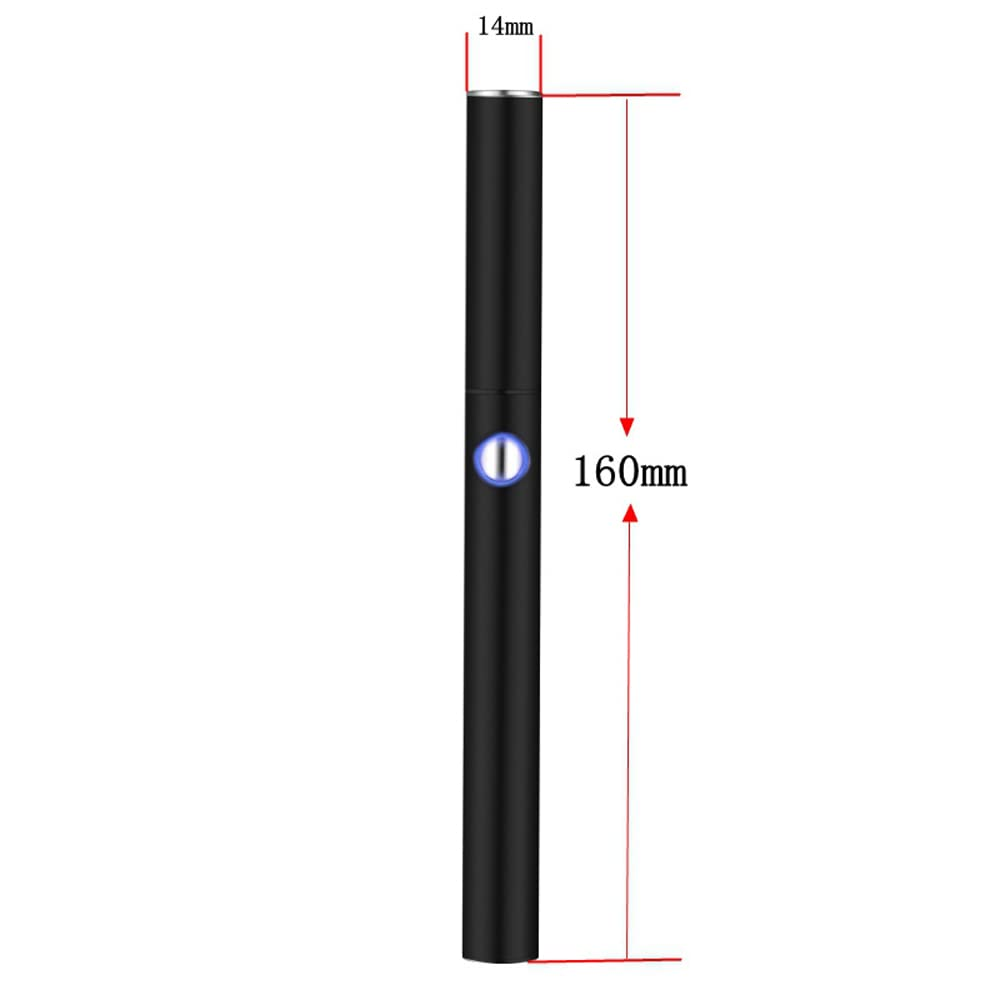14mm: (480, 16, 533, 35)
160mm: (576, 455, 688, 486)
